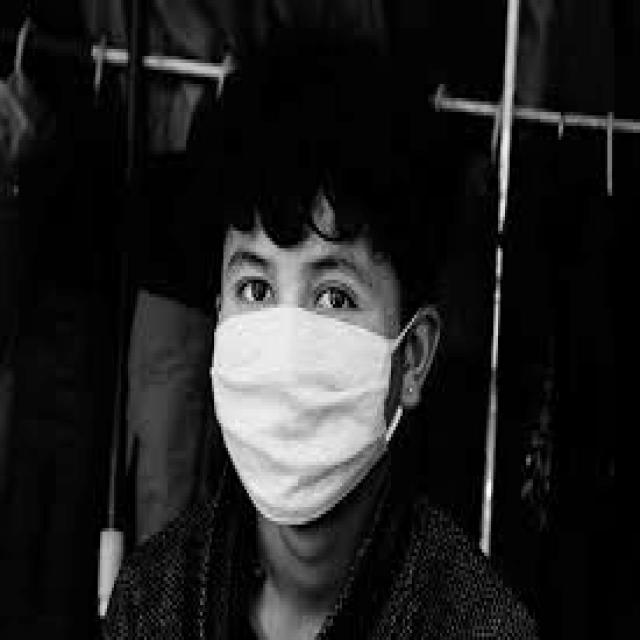with_mask: (207, 300, 438, 524)
